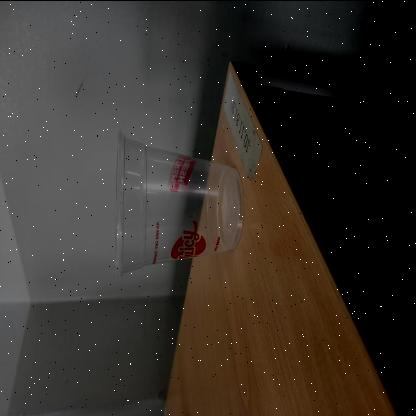Others: (112, 127, 242, 277)
